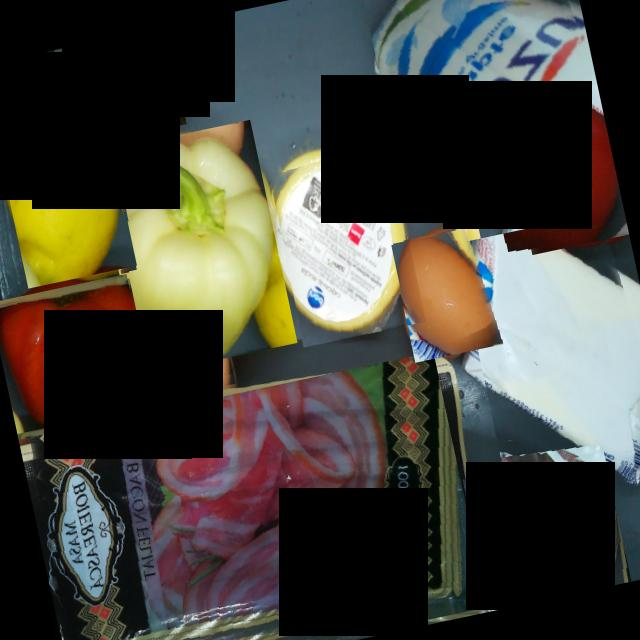avocado: (54, 26, 185, 148)
bacon: (18, 351, 487, 640)
butter: (455, 207, 640, 509)
cheese: (264, 139, 426, 347)
eggs: (389, 224, 503, 362), (147, 338, 236, 400)
lemon: (0, 103, 133, 288)
milk: (360, 0, 597, 126)
pepper: (93, 120, 297, 376)
tomatoes: (0, 273, 154, 433), (498, 76, 628, 255)
yogurt: (462, 449, 631, 611), (0, 50, 64, 129)
